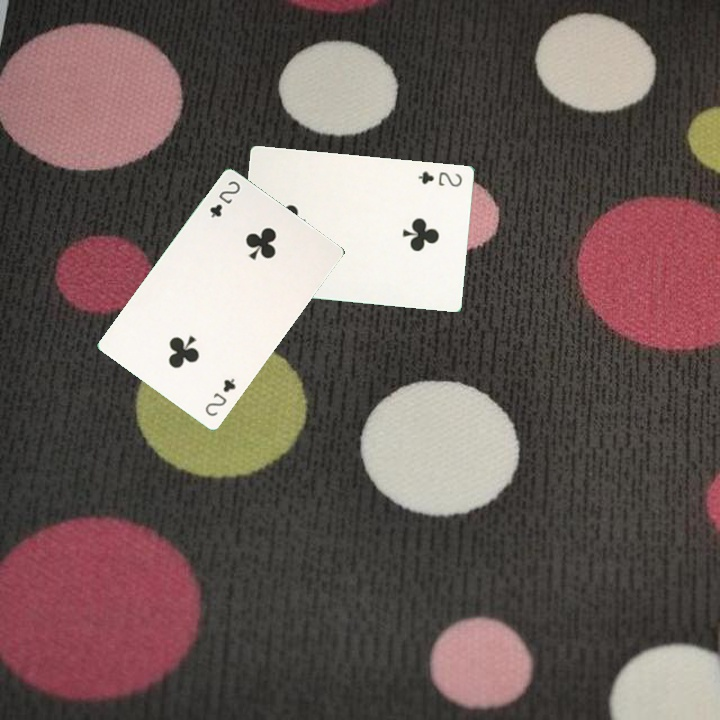2c: (201, 374, 238, 419), (206, 177, 243, 220), (414, 167, 464, 189)
